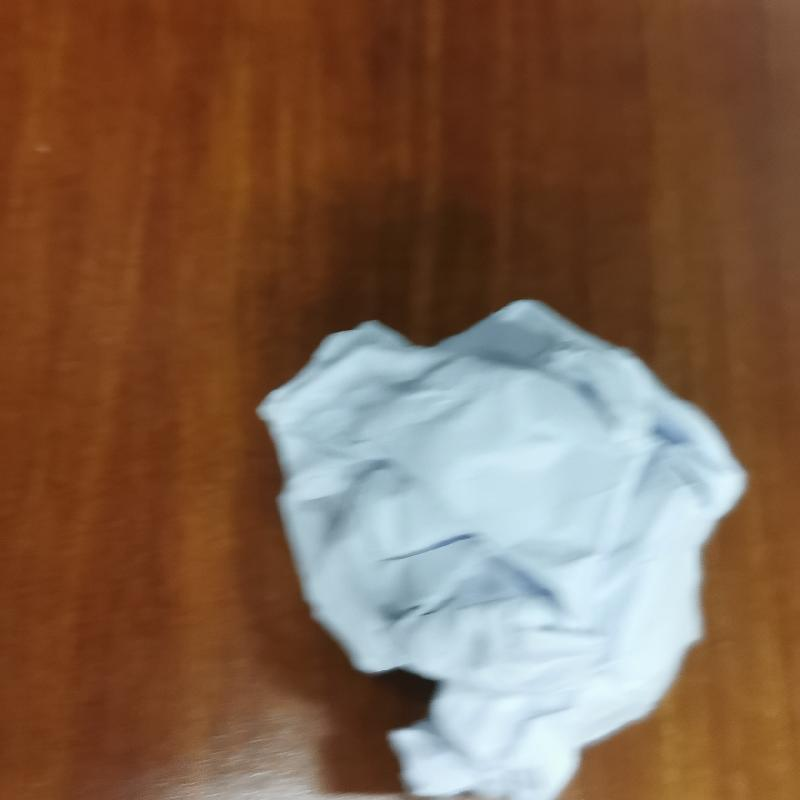spitball: (238, 296, 761, 800)
